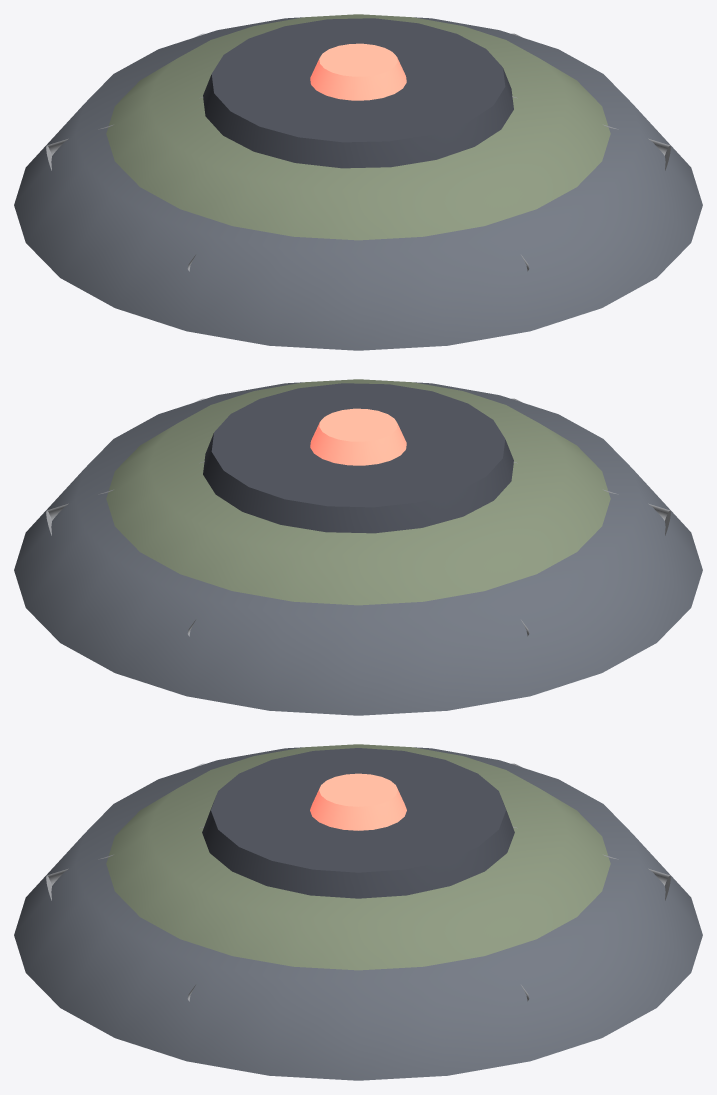
The model's file is landmine.glb.
3 renders of one model, top to bottom at view 1: azimuth 30°, elevation 25°; view 2: azimuth 150°, elevation 25°; view 3: azimuth 270°, elevation 25°, orthographic.
Parts seen in each view (by area): view 1: Hull; view 2: Hull; view 3: Hull.
Part boxes in pixels (x1,y1,x2,y2): Hull: [14, 14, 702, 350]; Hull: [14, 379, 702, 715]; Hull: [14, 744, 702, 1080].
Size of what is drawn, in the model's own units: 0.56 by 0.13 by 0.56.
